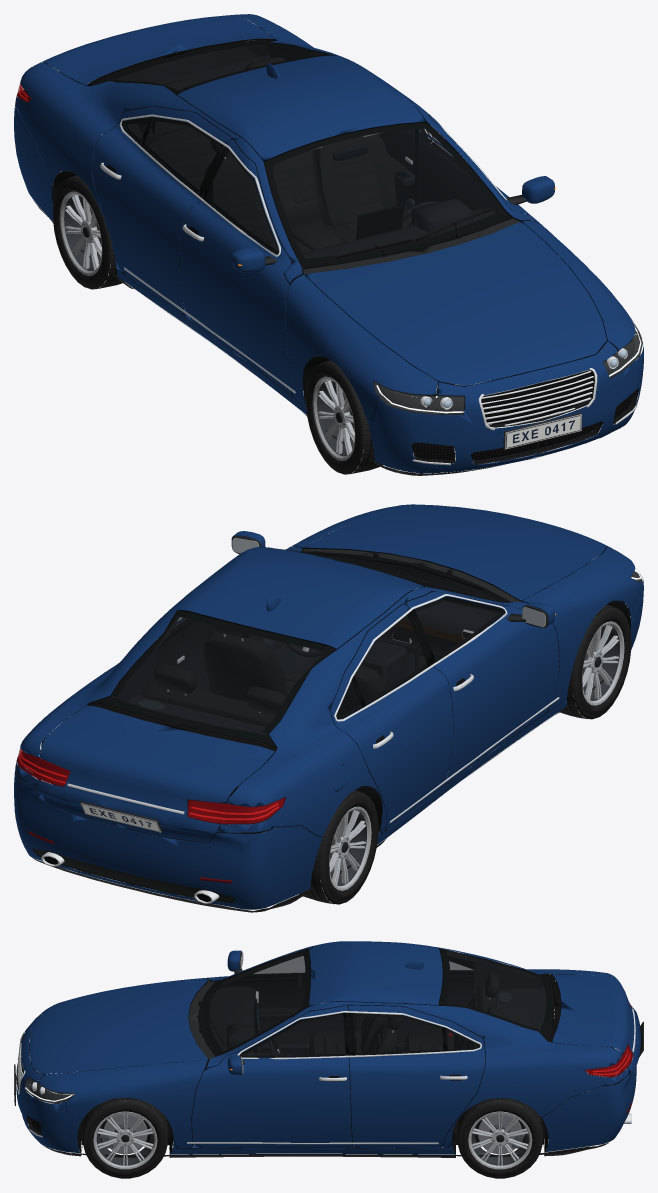
The picture shows the model from 3 angles, top to bottom: view 1: azimuth 30°, elevation 25°; view 2: azimuth 150°, elevation 25°; view 3: azimuth 270°, elevation 25°; orthographic projection. The views are drawn at different scales.
Parts seen in each view (by area): view 1: Body, Wheel_FR, Wheel_RR; view 2: Body, Wheel_RR, Wheel_FR; view 3: Body, Wheel_FL, Wheel_RL.
Boxes of the visible parts, x1=… form: Body: x1=14, y1=14, x2=643, y2=475; Wheel_FR: x1=305, y1=360, x2=383, y2=474; Wheel_RR: x1=52, y1=175, x2=123, y2=289; Body: x1=14, y1=504, x2=643, y2=912; Wheel_RR: x1=299, y1=790, x2=378, y2=904; Wheel_FR: x1=553, y1=604, x2=631, y2=719; Body: x1=14, y1=941, x2=643, y2=1157; Wheel_FL: x1=82, y1=1097, x2=168, y2=1178; Wheel_RL: x1=457, y1=1098, x2=543, y2=1178.
Size of the model in its own units: 2.17 by 1.5 by 5.01.
Materials: 59 (12 with a texture image).
